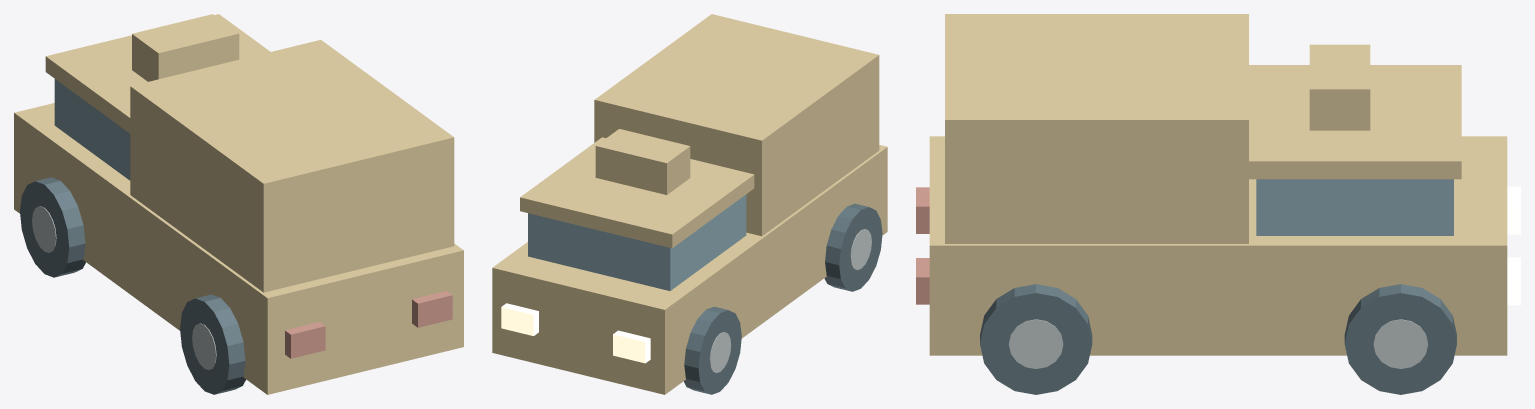
Rendered from remaster_vehicle_1.glb.
3 views of the same model, side by side, from view 1: azimuth 30°, elevation 25°; view 2: azimuth 150°, elevation 25°; view 3: azimuth 270°, elevation 25° (orthographic). The views are drawn at different scales.
Visible parts, largest first — view 1: remaster_vehicle_1 gold, remaster_vehicle_1 dark, remaster_vehicle_1 glass, remaster_vehicle_1 red, remaster_vehicle_1 metal; view 2: remaster_vehicle_1 gold, remaster_vehicle_1 glass, remaster_vehicle_1 dark, remaster_vehicle_1 warm, remaster_vehicle_1 metal; view 3: remaster_vehicle_1 gold, remaster_vehicle_1 dark, remaster_vehicle_1 glass, remaster_vehicle_1 metal, remaster_vehicle_1 warm, remaster_vehicle_1 red.
Boxes of the visible parts, <box> form: remaster_vehicle_1 gold: <box>14,14,463,394</box>; remaster_vehicle_1 dark: <box>20,177,245,394</box>; remaster_vehicle_1 glass: <box>54,79,130,180</box>; remaster_vehicle_1 red: <box>285,291,452,358</box>; remaster_vehicle_1 metal: <box>32,206,216,370</box>; remaster_vehicle_1 gold: <box>492,14,887,394</box>; remaster_vehicle_1 glass: <box>528,194,746,290</box>; remaster_vehicle_1 dark: <box>683,203,882,394</box>; remaster_vehicle_1 warm: <box>501,303,650,363</box>; remaster_vehicle_1 metal: <box>709,229,871,373</box>; remaster_vehicle_1 gold: <box>929,14,1507,355</box>; remaster_vehicle_1 dark: <box>980,284,1456,394</box>; remaster_vehicle_1 glass: <box>1256,179,1453,235</box>; remaster_vehicle_1 metal: <box>1008,319,1428,368</box>; remaster_vehicle_1 warm: <box>1507,186,1520,305</box>; remaster_vehicle_1 red: <box>916,187,929,304</box>.
Bounding box in the file's own units: 1.99 × 1.92 × 3.98.
